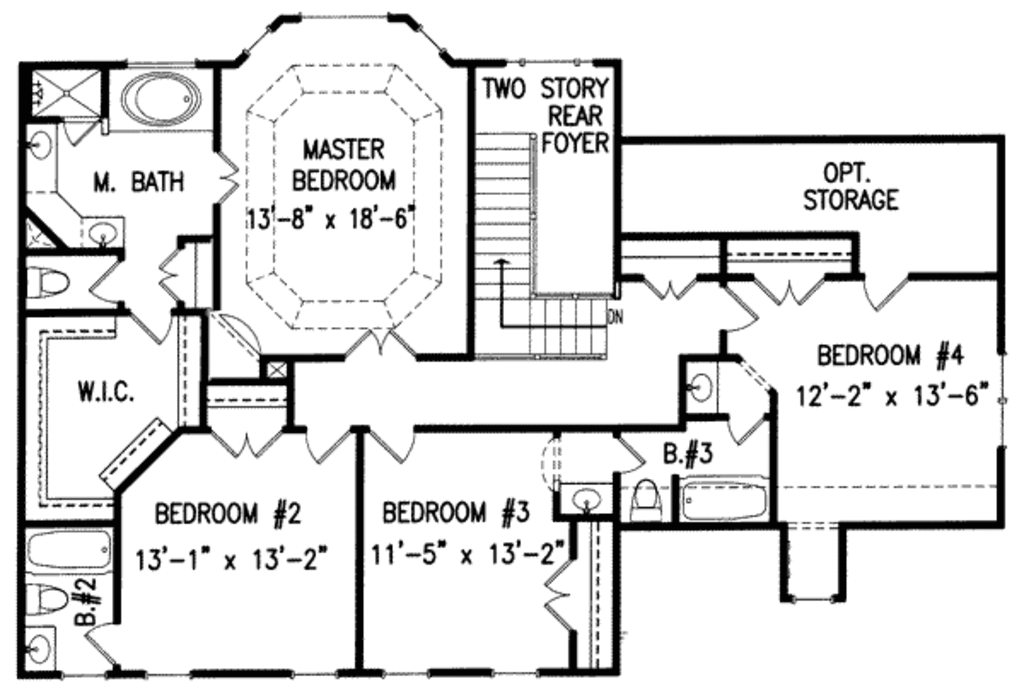door: (206, 425, 285, 460), (539, 559, 577, 631), (751, 271, 826, 307), (342, 327, 414, 360), (721, 279, 763, 335), (298, 425, 353, 465), (123, 305, 176, 346), (862, 269, 910, 312), (366, 425, 417, 465), (85, 257, 123, 307), (639, 271, 700, 302), (211, 147, 241, 209), (158, 244, 187, 306), (613, 432, 650, 479), (725, 408, 766, 449)
large_sink: (20, 263, 74, 306), (626, 479, 666, 523), (27, 581, 69, 619)
small_sink: (25, 120, 61, 196), (682, 354, 718, 419), (555, 481, 615, 516), (77, 214, 128, 254), (24, 625, 56, 673)
stairs: (470, 129, 623, 353)
tub: (108, 65, 212, 130), (20, 527, 114, 578), (676, 473, 771, 521)
